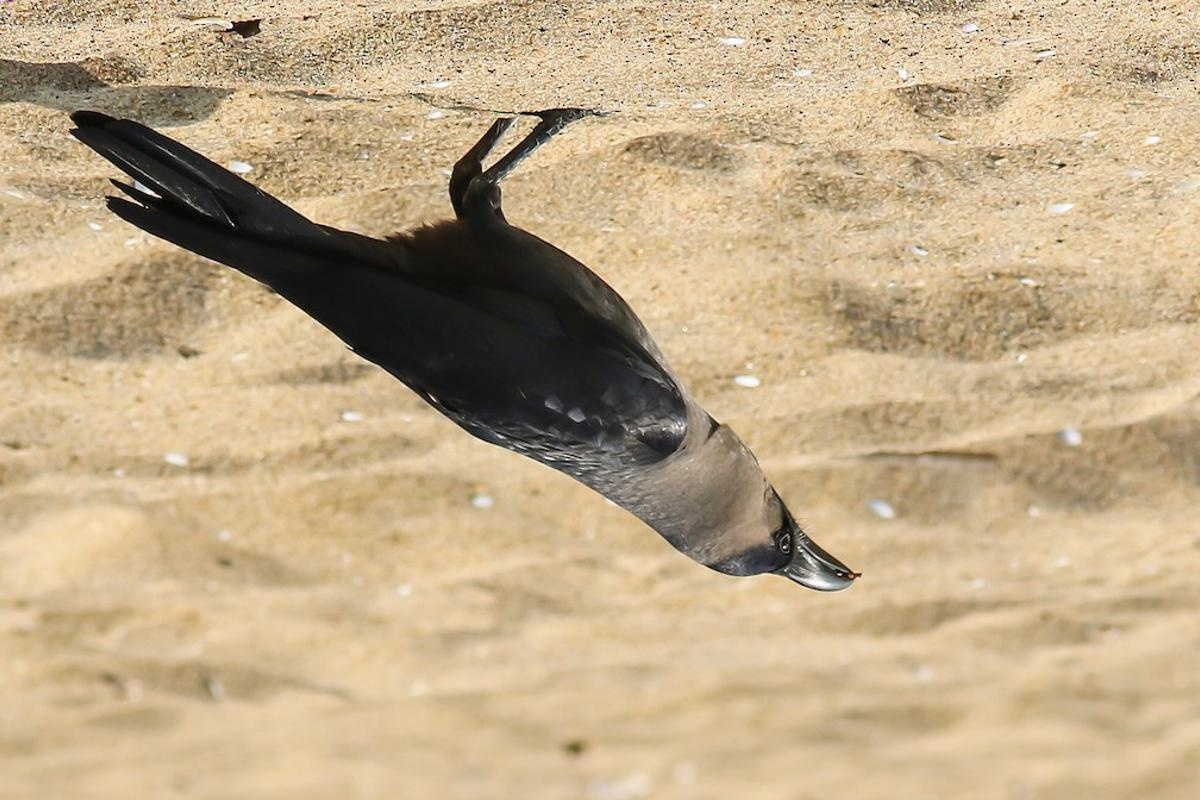crow: (61, 106, 873, 602)
